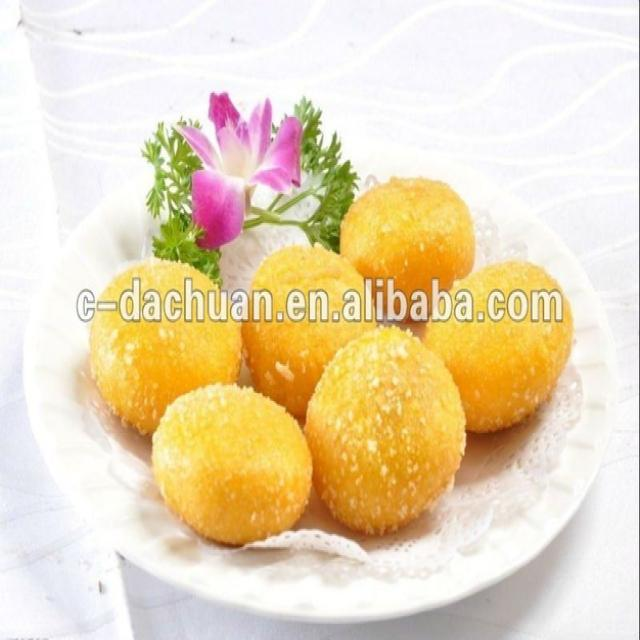炸货点心: (40, 150, 597, 580)
蛋糕甜品: (40, 150, 597, 580)
